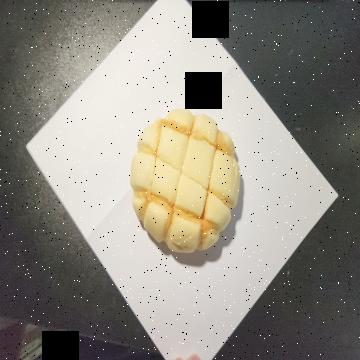melon_bread: (130, 108, 242, 260)
